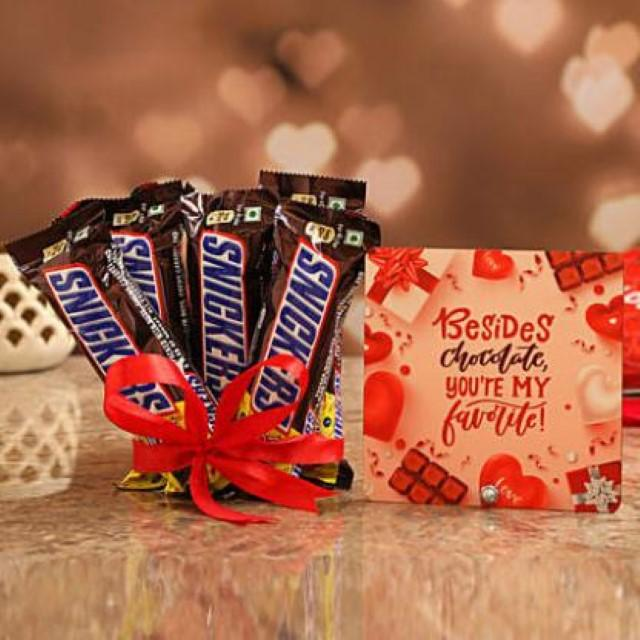snickers_chocolate: (33, 257, 232, 395), (106, 228, 236, 435), (282, 220, 353, 462), (208, 205, 252, 433)
